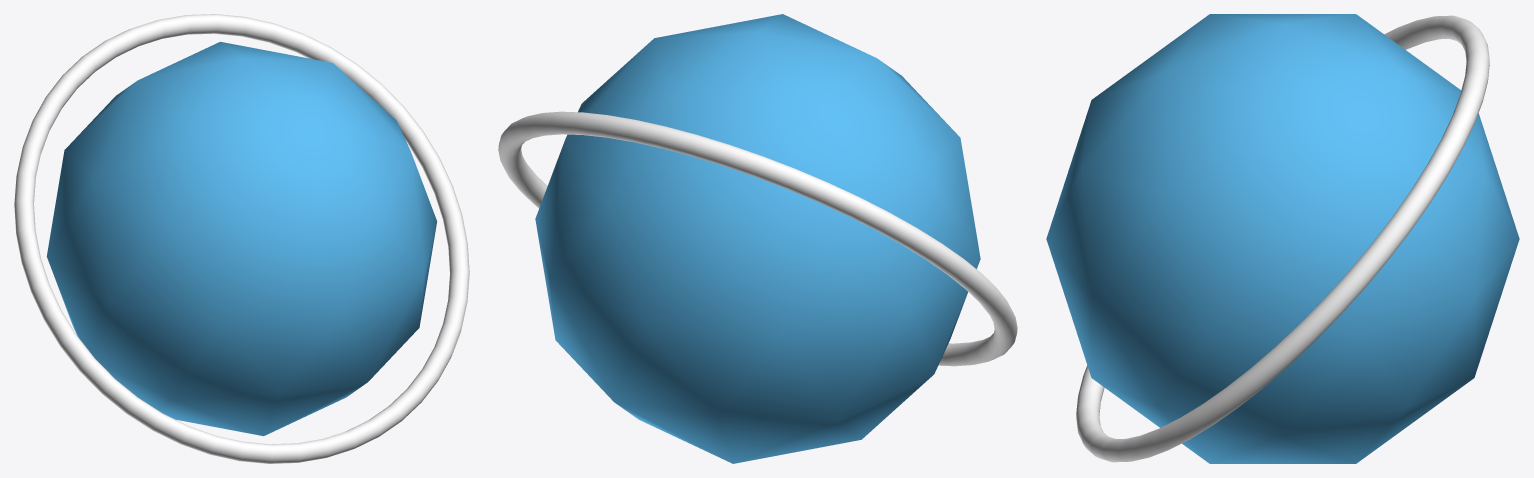
File: mesh_powerup_shield.fbx
3 views of the same model, side by side, from view 1: azimuth 30°, elevation 25°; view 2: azimuth 150°, elevation 25°; view 3: azimuth 270°, elevation 25° (orthographic). The views are drawn at different scales.
Parts seen in each view (by area): view 1: mesh_powerup_shield; view 2: mesh_powerup_shield; view 3: mesh_powerup_shield.
Boxes of the visible parts, box(x1,y1,x2,y2) form: mesh_powerup_shield: box(14, 14, 469, 463); mesh_powerup_shield: box(498, 14, 1017, 463); mesh_powerup_shield: box(1046, 14, 1519, 463).
Bounding box in the file's own units: 0.73 × 0.6 × 0.6.
